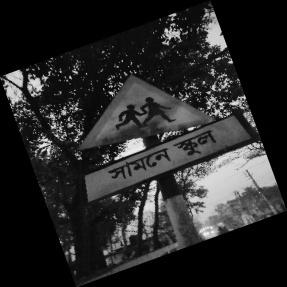School-in-front: (77, 73, 253, 206)
